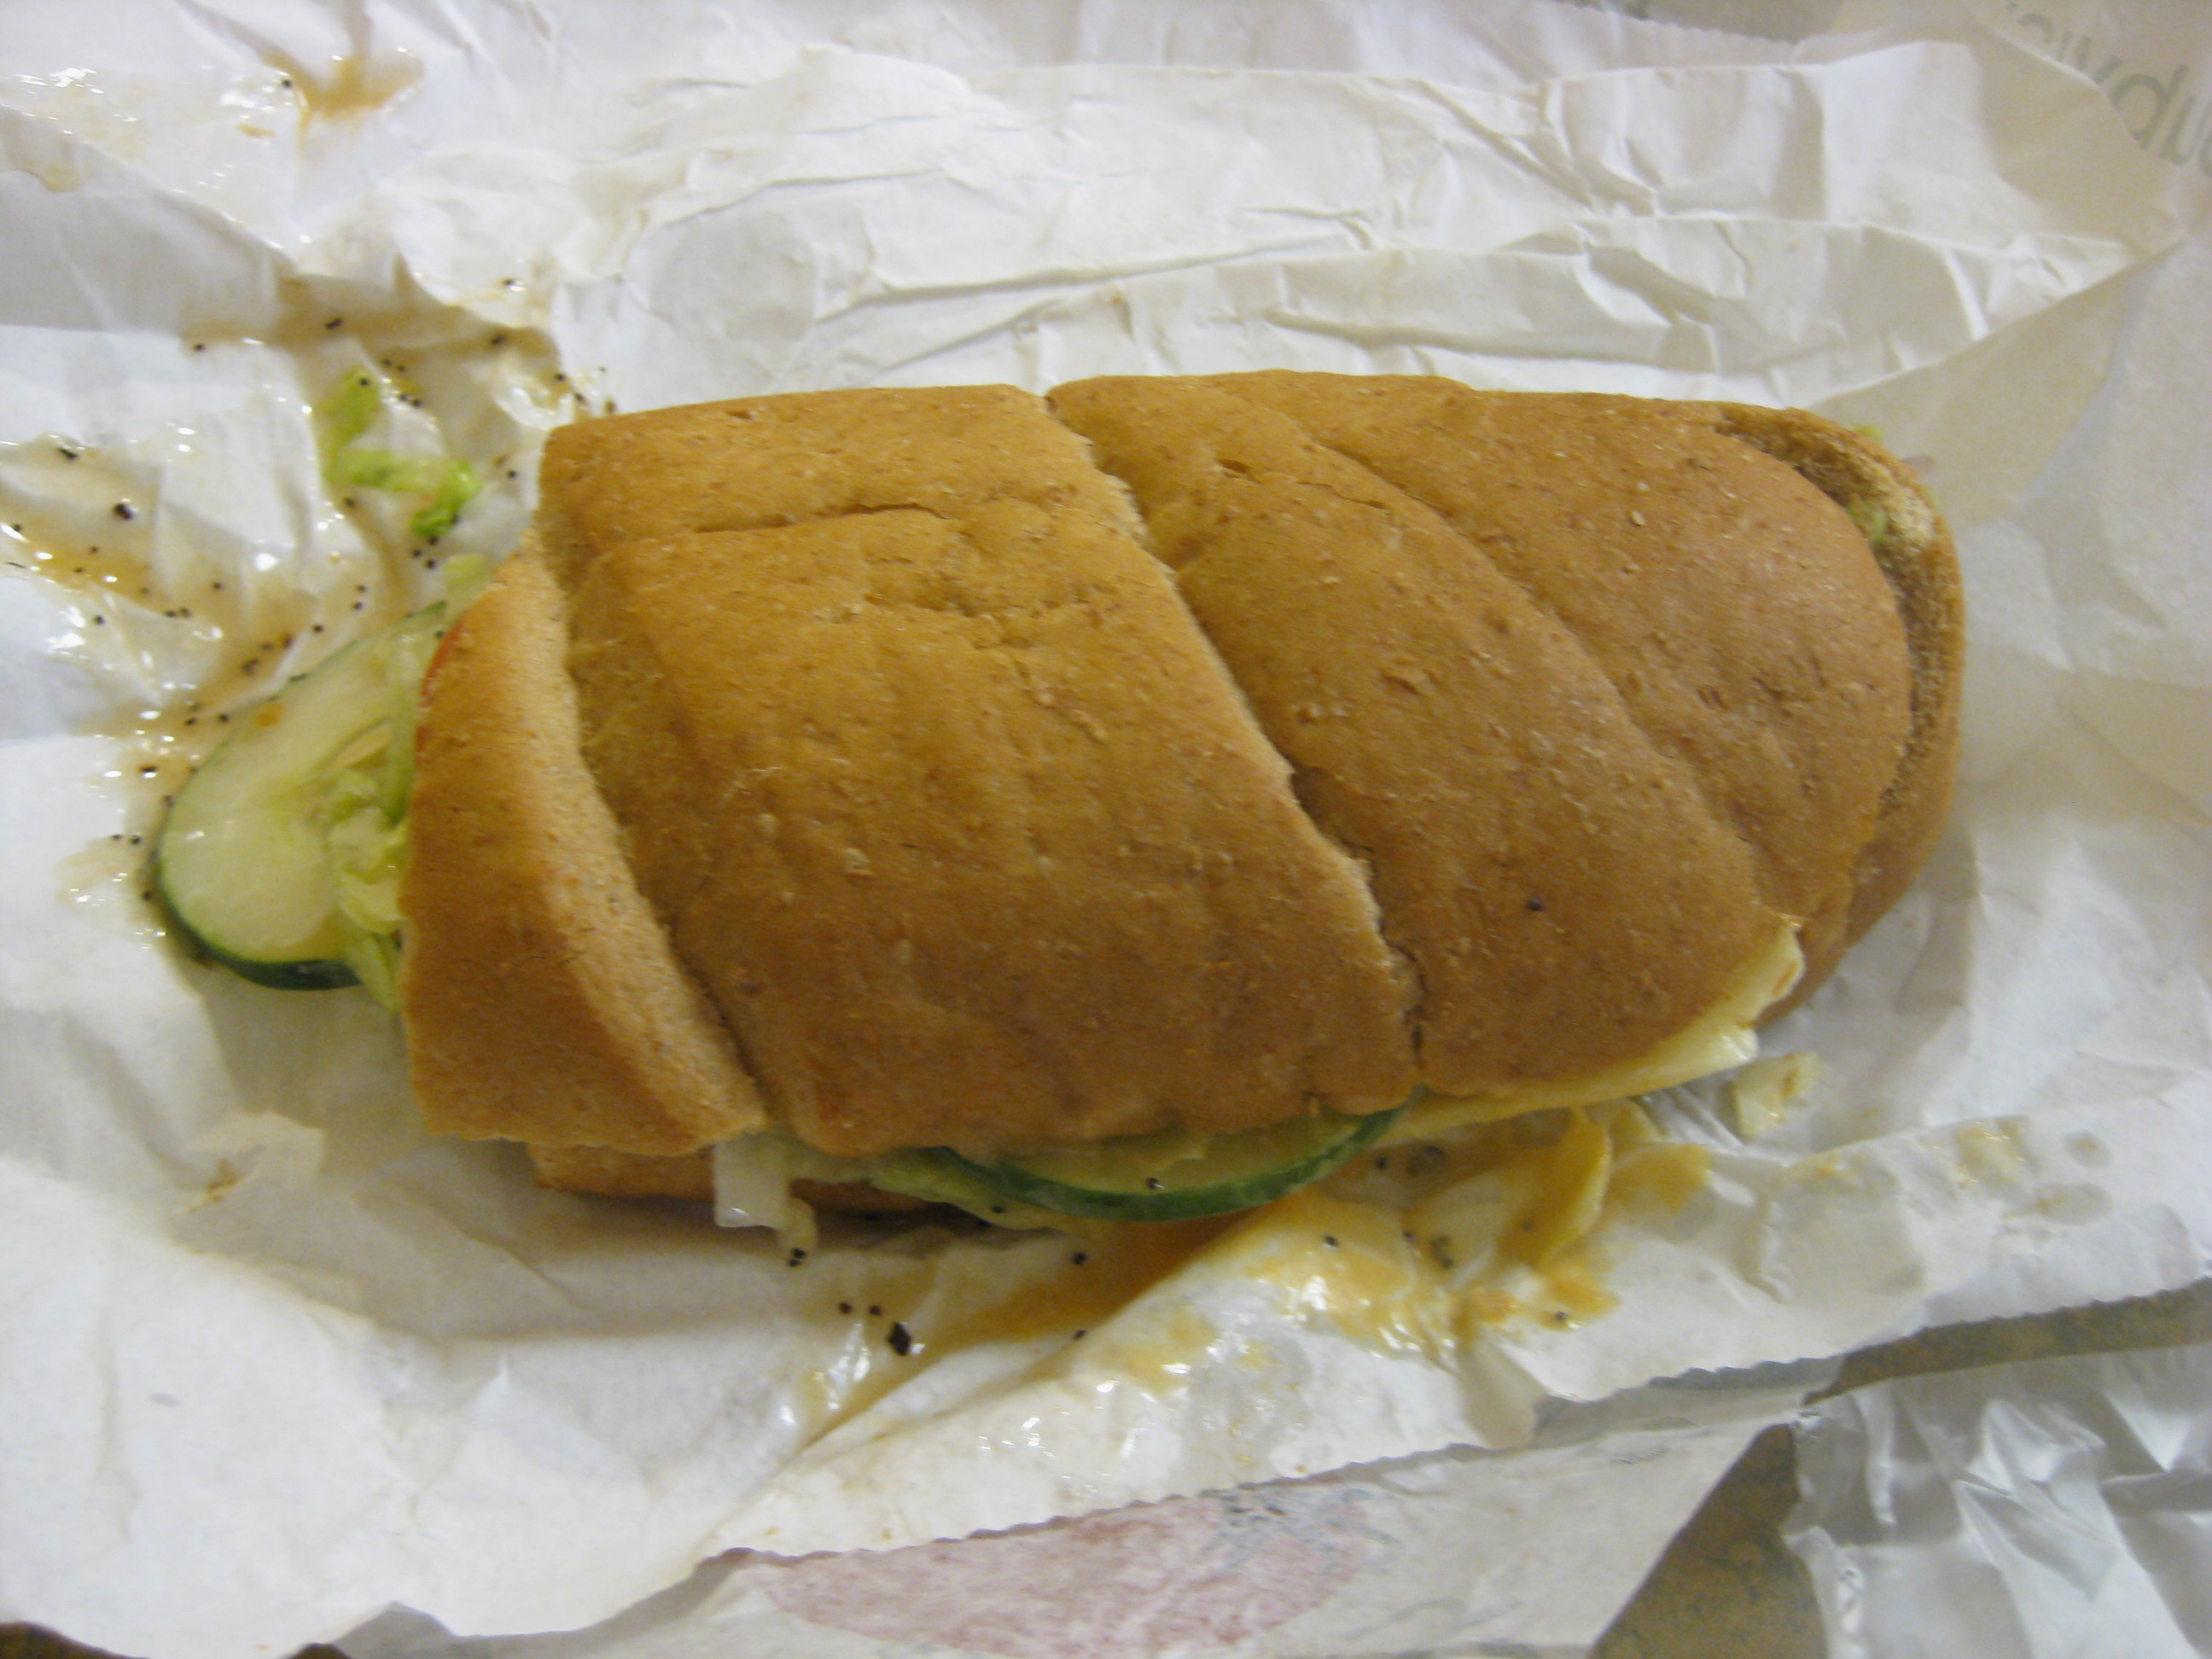sub: (141, 295, 2089, 1326)
